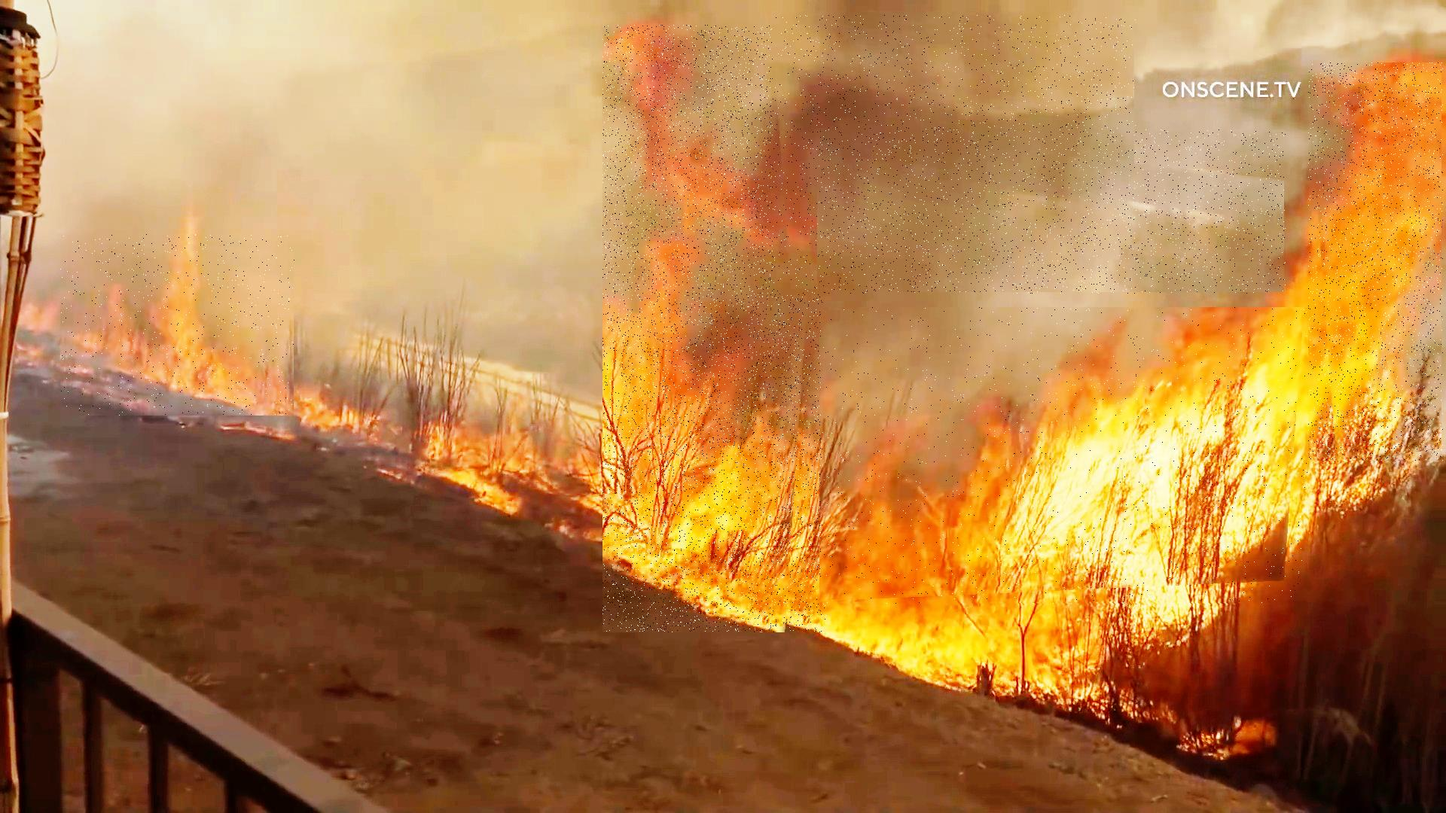fire: (821, 308, 1308, 604), (603, 25, 828, 632), (1309, 63, 1444, 461), (61, 234, 296, 416)
smoke: (772, 15, 1136, 291), (819, 130, 1286, 294), (1332, 106, 1337, 112)
